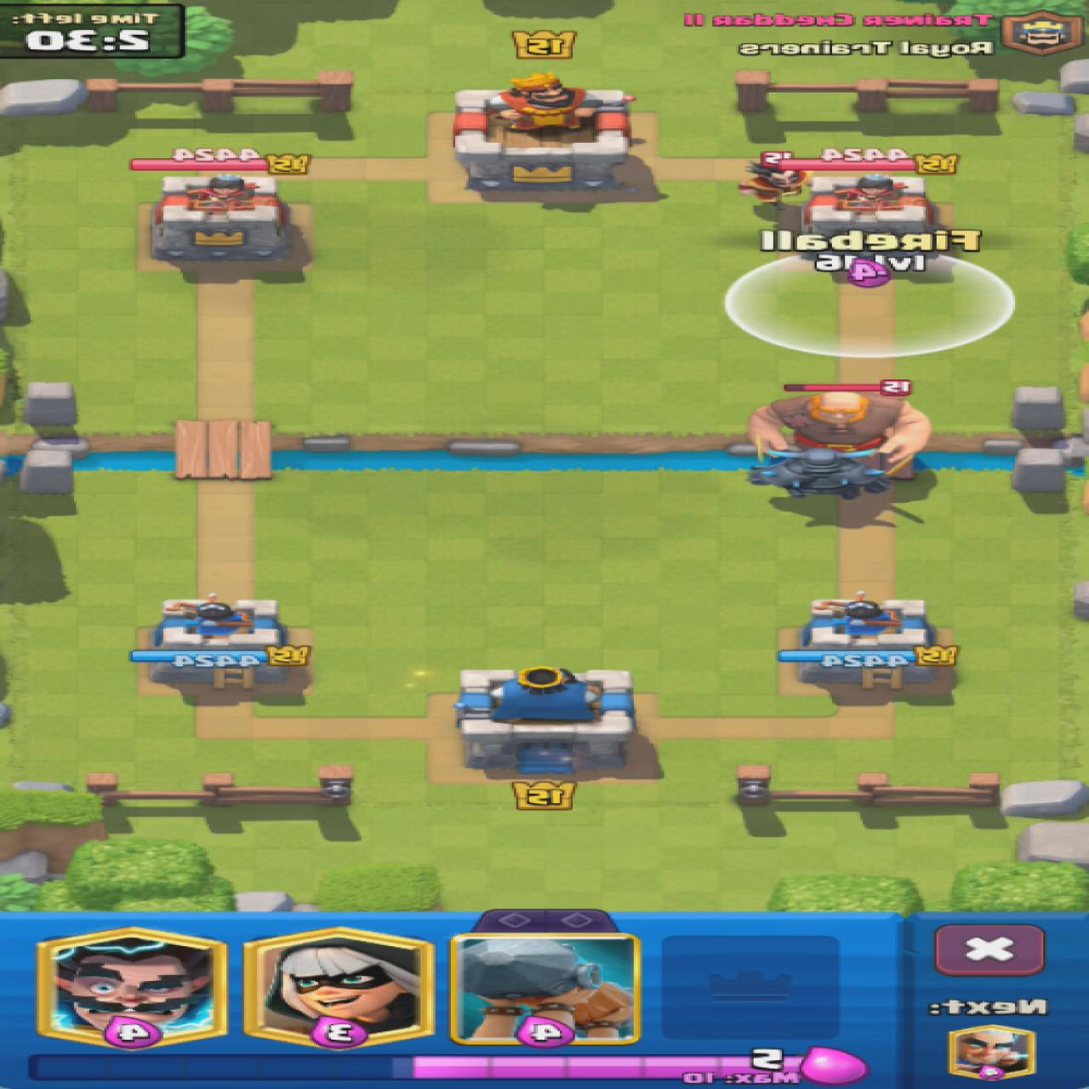Enemy-ElectroWizard: (741, 162, 810, 208)
Enemy-Giant: (751, 391, 928, 467)
Enemy-KingTower: (455, 73, 629, 194)
Enemy-PrincessTower: (155, 174, 292, 261), (804, 178, 939, 240)
